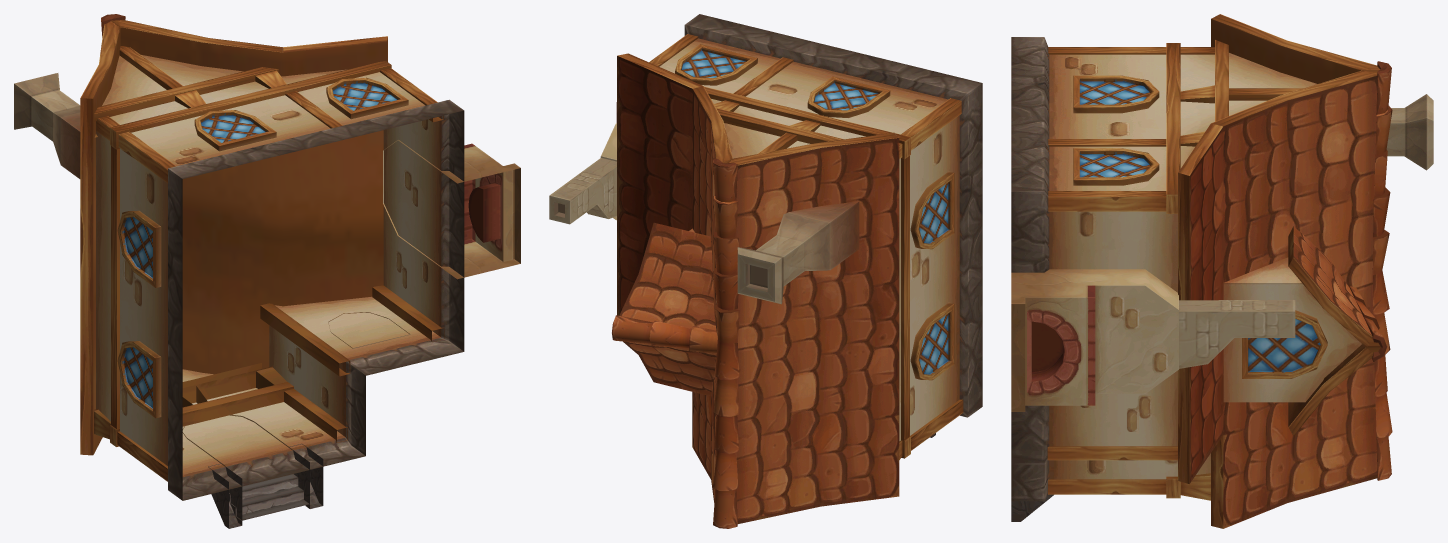
File: BakerHouse.FBX
The picture shows the model from 3 angles, left to right: view 1: azimuth 30°, elevation 25°; view 2: azimuth 150°, elevation 25°; view 3: azimuth 270°, elevation 25°; orthographic projection. The views are drawn at different scales.
Parts seen in each view (by area): view 1: Baker_house, Chimney; view 2: Baker_house, Chimney; view 3: Baker_house, Chimney.
Boxes of the visible parts, x1,y1,x2,y2 form: Baker_house: (14,14,464,528); Chimney: (383,140,520,279); Baker_house: (612,14,982,528); Chimney: (549,102,616,224); Baker_house: (1011,14,1433,528); Chimney: (1011,269,1295,411).
Size of the model in its own units: 380 by 397 by 354.
